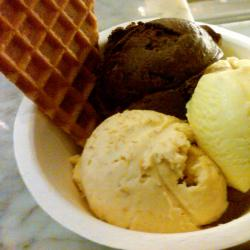icecream: (77, 15, 250, 232)
